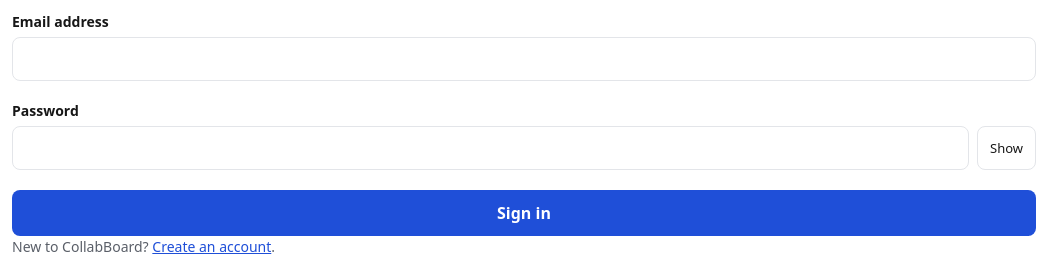
Scenario: on success › keeps the button disabled through the navigation
The width and height of the screenshot is (1048, 271).
In the field labelled "Email address": x=524, y=59 top-left (12, 37), bottom-right (1036, 81), type "andy@example.com"
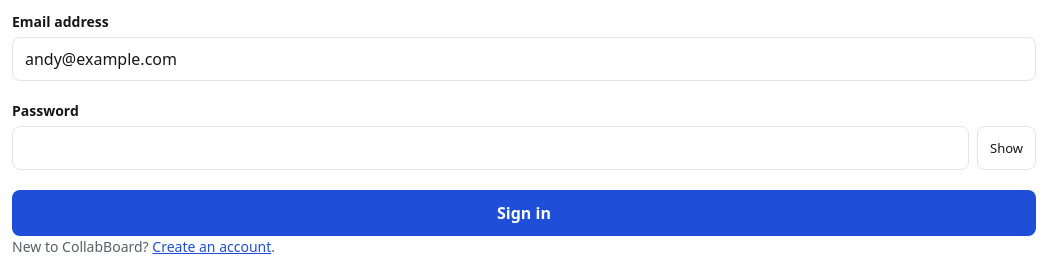
In the password field labelled "Password": x=490, y=148 top-left (12, 126), bottom-right (969, 170), type "correct horse battery"
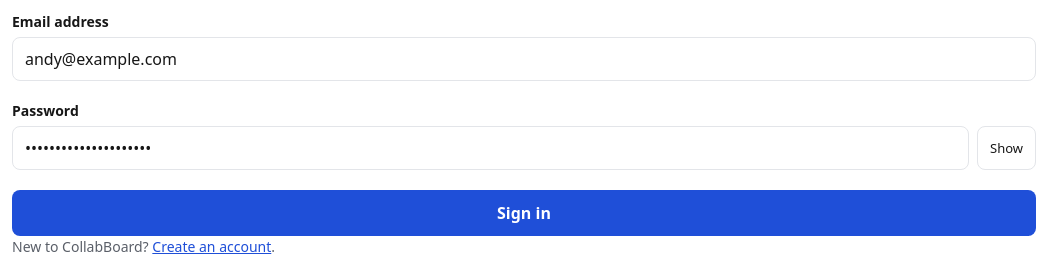
Submit the form "Sign in"
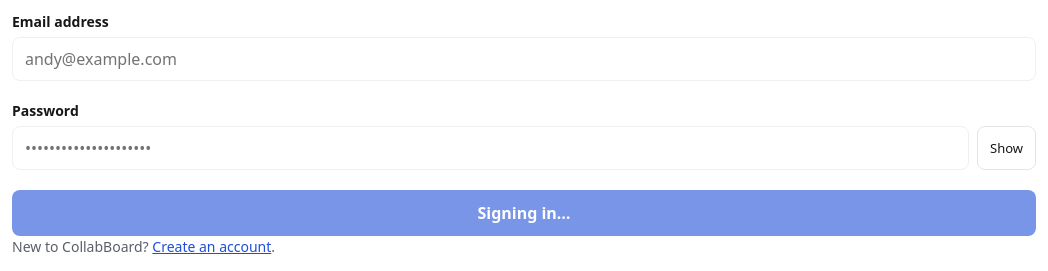
Now the button "Signing in…" is disabled, box top-left (12, 190), bottom-right (1036, 236)
